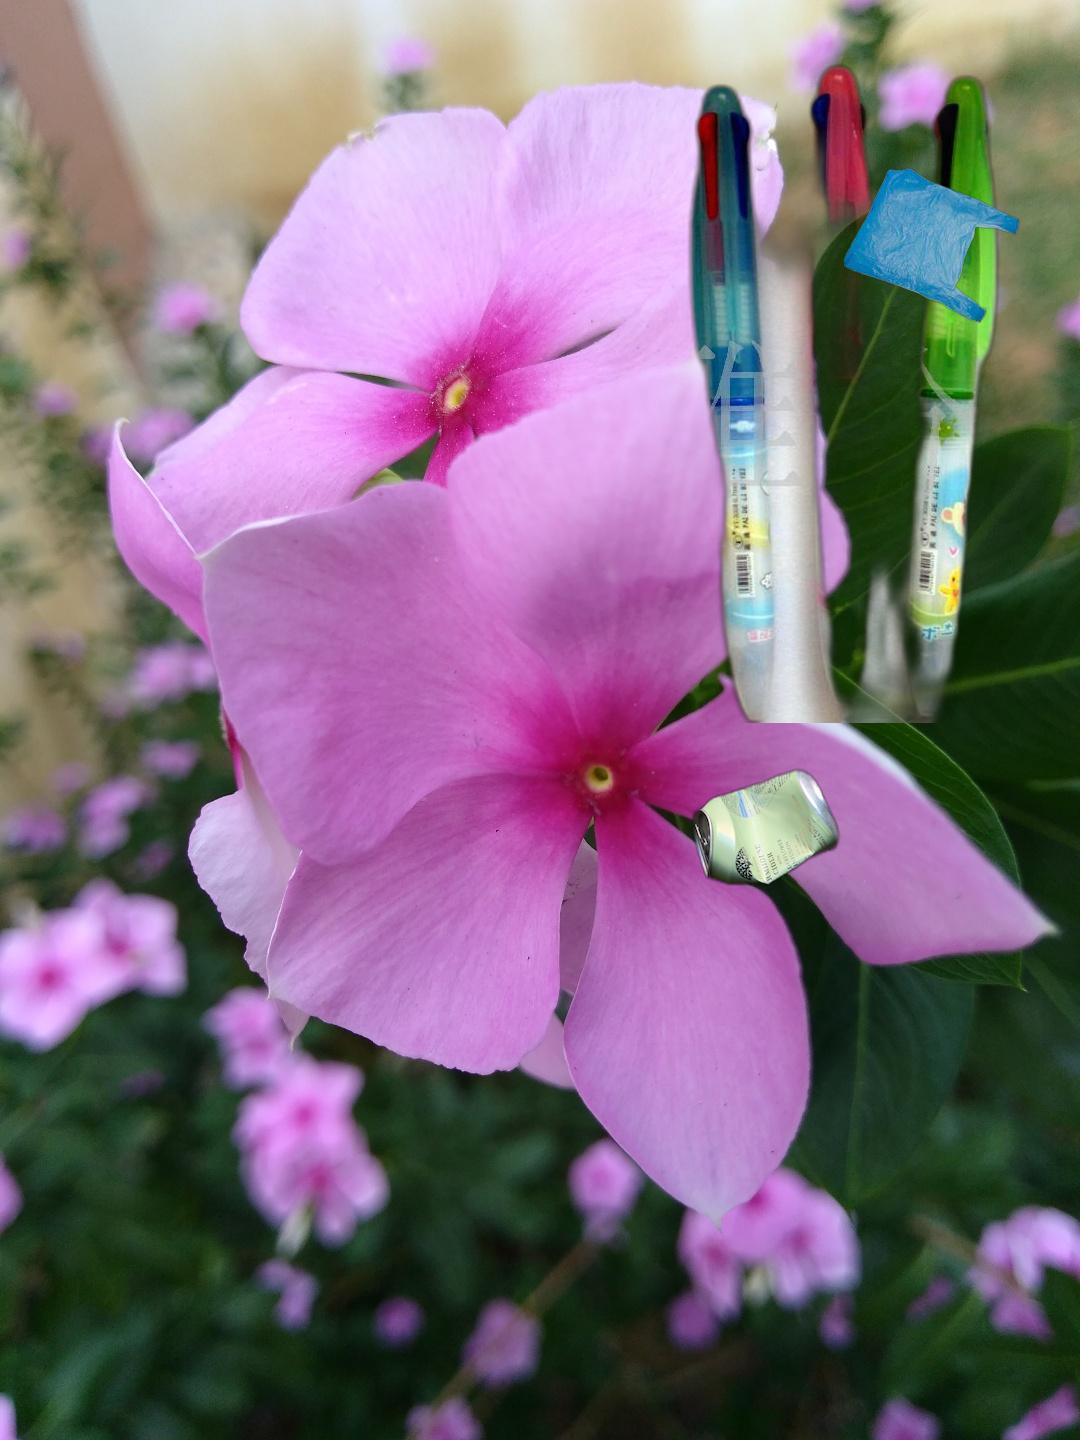metal-cans: (689, 763, 843, 891)
penholder: (680, 60, 1007, 723)
plastic-bag: (841, 166, 1020, 324)
